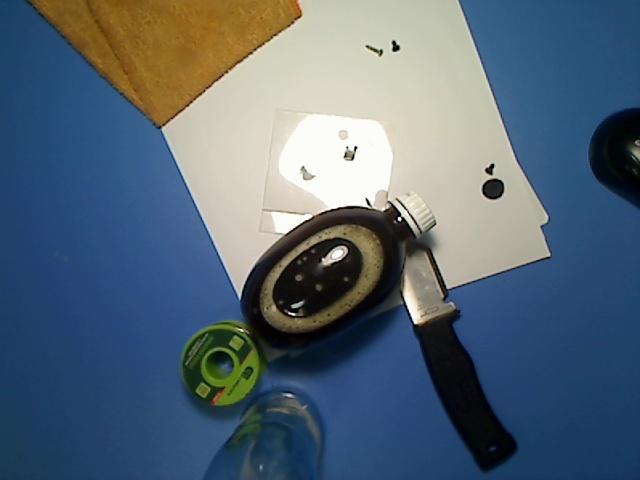plast_bottle: (236, 188, 442, 353)
